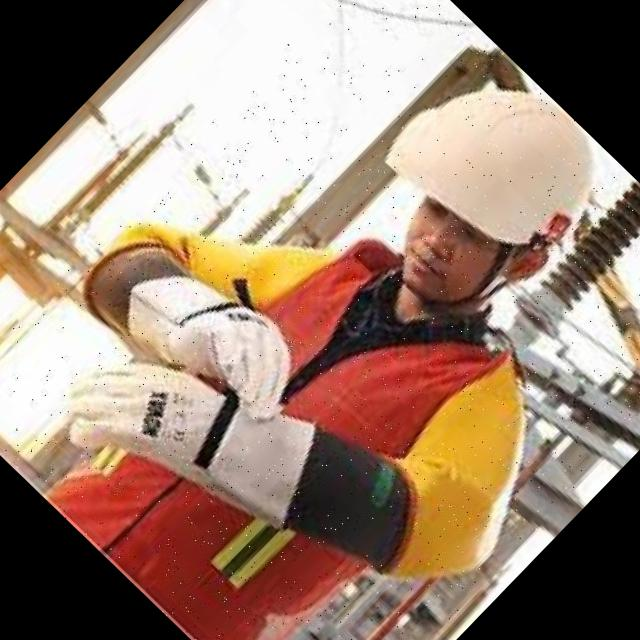hard_hat: (359, 32, 638, 310)
safety_vest: (30, 182, 537, 640)
vehicle: (0, 0, 640, 640)
